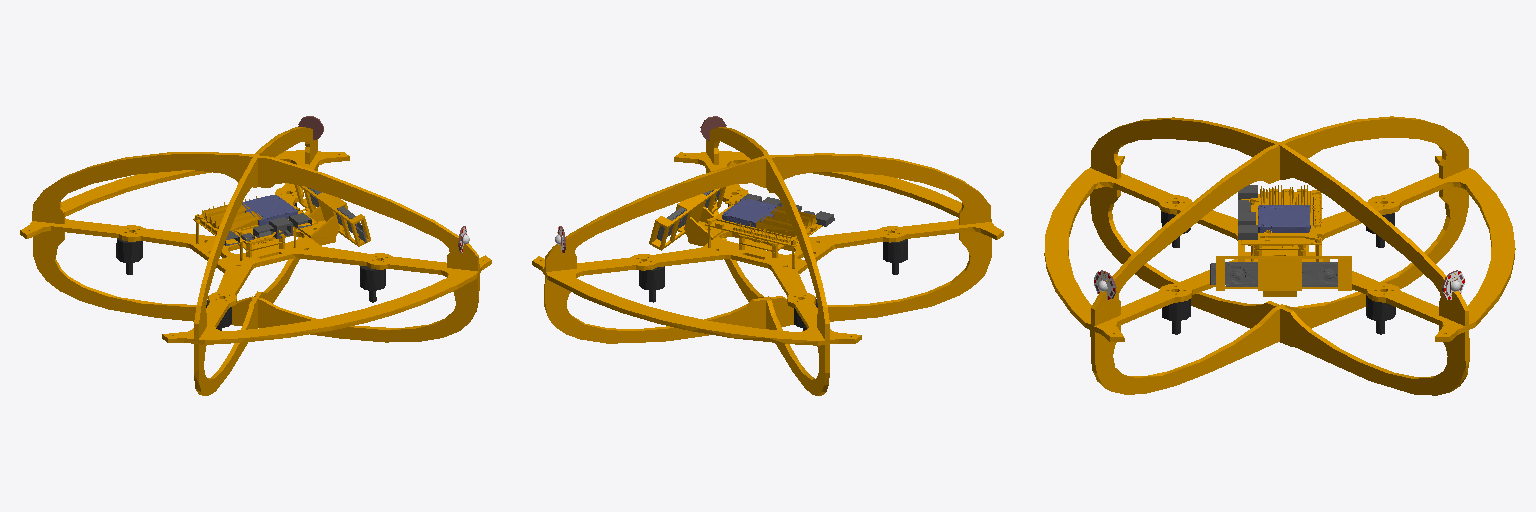
robot.urdf — RMF:
<?xml version='1.0' encoding='utf-8'?>
<robot name='RMF'>
  <link name='base_link'>
    <inertial>
      <origin xyz='0 0 0.01' rpy='0 -0 0'/>
      <mass value='0.524'/>
      <inertia ixx='0.017' ixy='0' ixz='0' iyy='0.018' iyz='0' izz='0.028'/>
    </inertial>
    <collision name='base_link_inertia_collision'>
      <origin xyz='0 0 0.02' rpy='0 -0 0'/>
      <geometry>
        <mesh filename='package://cerberus_rmf_sensor_config_1/meshes/rmf.stl' scale='1 1 1'/>
      </geometry>
    </collision>
    <visual name='base_link_inertia_visual'>
      <origin xyz='0 0 0.02' rpy='0 -0 0'/>
      <geometry>
        <mesh filename='package://cerberus_rmf_sensor_config_1/meshes/rmf.dae' scale='1 1 1'/>
      </geometry>
    </visual>
    <visual name='left_flashlight_led'>
      <origin xyz='0.12 0.12 0.12' rpy='0 -0 2.35619'/>
      <geometry>
        <mesh filename='package://cerberus_rmf_sensor_config_1/meshes/cree_xhp70.dae' scale='1 1 1'/>
      </geometry>
    </visual>
    <visual name='right_flashlight_led'>
      <origin xyz='0.12 -0.12 0.12' rpy='0 -0 0.785398'/>
      <geometry>
        <mesh filename='package://cerberus_rmf_sensor_config_1/meshes/cree_xhp70.dae' scale='1 1 1'/>
      </geometry>
    </visual>
  </link>
  <sensor name='imu_sensor' update_rate='200'>
    <parent link='base_link'/>
    <origin xyz='0 0 0' rpy='0 -0 0'/>
  </sensor>
  <sensor name='air_pressure' update_rate='20'>
    <parent link='base_link'/>
    <origin xyz='0 0 0' rpy='0 -0 0'/>
  </sensor>
  <sensor name='magnetometer' update_rate='20'>
    <parent link='base_link'/>
    <origin xyz='0 0 0' rpy='0 -0 0'/>
  </sensor>
  <sensor name='camera_front_right' update_rate='30'>
    <parent link='base_link'/>
    <origin xyz='0.08 -0.032 0.1' rpy='0 -0.261799 0'/>
    <camera>
      <image width='848' height='800' format='R8G8B8' hfov='2.8' near='0.02' far='100' />
    </camera>
  </sensor>
  <sensor name='camera_front_left' update_rate='30'>
    <parent link='base_link'/>
    <origin xyz='0.08 0.032 0.1' rpy='0 -0.261799 0'/>
    <camera>
      <image width='848' height='800' format='R8G8B8' hfov='2.8' near='0.02' far='100' />
    </camera>
  </sensor>
  <sensor name='front_right_laser' update_rate='50'>
    <parent link='base_link'/>
    <origin xyz='0.13 -0.13 0.08' rpy='0 0 -0.785398'/>
  </sensor>
  <sensor name='back_right_laser' update_rate='50'>
    <parent link='base_link'/>
    <origin xyz='-0.13 -0.13 0.08' rpy='0 0 -2.35619'/>
  </sensor>
  <sensor name='back_left_laser' update_rate='50'>
    <parent link='base_link'/>
    <origin xyz='-0.13 0.13 0.08' rpy='0 -0 2.35619'/>
  </sensor>
  <sensor name='front_left_laser' update_rate='50'>
    <parent link='base_link'/>
    <origin xyz='0.13 0.13 0.08' rpy='0 -0 0.785398'/>
  </sensor>
  <link name='rotor_0'>
    <inertial>
      <origin xyz='0 0 0' rpy='0 -0 0'/>
      <mass value='0.005'/>
      <inertia ixx='9.75e-07' ixy='0' ixz='0' iyy='8.13545e-05' iyz='0' izz='8.22545e-05'/>
    </inertial>
    <visual name='rotor_0_visual'>
      <origin xyz='0 0 0' rpy='0 -0 0'/>
      <geometry>
        <mesh filename='package://cerberus_rmf_sensor_config_1/meshes/propeller_ccw.dae' scale='0.05 0.05 0.05'/>
      </geometry>
    </visual>
  </link>
  <link name='rotor_1'>
    <inertial>
      <origin xyz='0 0 0' rpy='0 -0 0'/>
      <mass value='0.005'/>
      <inertia ixx='9.75e-07' ixy='0' ixz='0' iyy='8.13545e-05' iyz='0' izz='8.22545e-05'/>
    </inertial>
    <visual name='rotor_1_visual'>
      <origin xyz='0 0 0' rpy='0 -0 0'/>
      <geometry>
        <mesh filename='package://cerberus_rmf_sensor_config_1/meshes/propeller_ccw.dae' scale='0.05 0.05 0.05'/>
      </geometry>
    </visual>
  </link>
  <link name='rotor_2'>
    <inertial>
      <origin xyz='0 0 0' rpy='0 -0 0'/>
      <mass value='0.005'/>
      <inertia ixx='9.75e-07' ixy='0' ixz='0' iyy='8.13545e-05' iyz='0' izz='8.22545e-05'/>
    </inertial>
    <visual name='rotor_2_visual'>
      <origin xyz='0 0 0' rpy='0 -0 0'/>
      <geometry>
        <mesh filename='package://cerberus_rmf_sensor_config_1/meshes/propeller_cw.dae' scale='0.05 0.05 0.05'/>
      </geometry>
    </visual>
  </link>
  <link name='rotor_3'>
    <inertial>
      <origin xyz='0 0 0' rpy='0 -0 0'/>
      <mass value='0.005'/>
      <inertia ixx='9.75e-07' ixy='0' ixz='0' iyy='8.13545e-05' iyz='0' izz='8.22545e-05'/>
    </inertial>
    <visual name='rotor_3_visual'>
      <origin xyz='0 0 0' rpy='0 -0 0'/>
      <geometry>
        <mesh filename='package://cerberus_rmf_sensor_config_1/meshes/propeller_cw.dae' scale='0.05 0.05 0.05'/>
      </geometry>
    </visual>
  </link>
  <joint name='rotor_0_joint' type='revolute'>
    <origin xyz='0.071 -0.071 0.067' rpy='0 -0 0'/>
    <parent link='base_link'/>
    <child link='rotor_0'/>
    <dynamics damping='0' friction='0' />
    <axis xyz='0 0 1'/>
    <limit lower='-1e+16' upper='1e+16' effort='-1' velocity='-1'/>
  </joint>
  <joint name='rotor_1_joint' type='revolute'>
    <origin xyz='-0.071 0.071 0.067' rpy='0 -0 0'/>
    <parent link='base_link'/>
    <child link='rotor_1'/>
    <dynamics damping='0' friction='0' />
    <axis xyz='0 0 1'/>
    <limit lower='-1e+16' upper='1e+16' effort='-1' velocity='-1'/>
  </joint>
  <joint name='rotor_2_joint' type='revolute'>
    <origin xyz='0.071 0.071 0.067' rpy='0 -0 0'/>
    <parent link='base_link'/>
    <child link='rotor_2'/>
    <dynamics damping='0' friction='0' />
    <axis xyz='0 0 1'/>
    <limit lower='-1e+16' upper='1e+16' effort='-1' velocity='-1'/>
  </joint>
  <joint name='rotor_3_joint' type='revolute'>
    <origin xyz='-0.071 -0.071 0.067' rpy='0 -0 0'/>
    <parent link='base_link'/>
    <child link='rotor_3'/>
    <dynamics damping='0' friction='0' />
    <axis xyz='0 0 1'/>
    <limit lower='-1e+16' upper='1e+16' effort='-1' velocity='-1'/>
  </joint>
</robot>

--- Render facts (derived) ---
3 views of the same robot in one strip: view 1: azimuth 30°, elevation 25°; view 2: azimuth 150°, elevation 25°; view 3: azimuth 270°, elevation 25° (orthographic).
Robot: RMF — 5 links, 4 joints (4 revolute); root link base_link; default pose: all joints at 0.
Links seen in each view (by area): view 1: base_link; view 2: base_link; view 3: base_link.
Link boxes in pixels (x1,y1,x2,y2): base_link: [20, 116, 491, 395]; base_link: [532, 116, 1003, 395]; base_link: [1044, 116, 1515, 395].
Bounding box of the posed robot: 0.2965 × 0.3262 × 0.1512 m (x, y, z).
Meshes: 4 distinct files referenced, 3 mesh visuals loaded (2 Collada DAE); not drawn: 4 (reference not matched to a file when rendering).